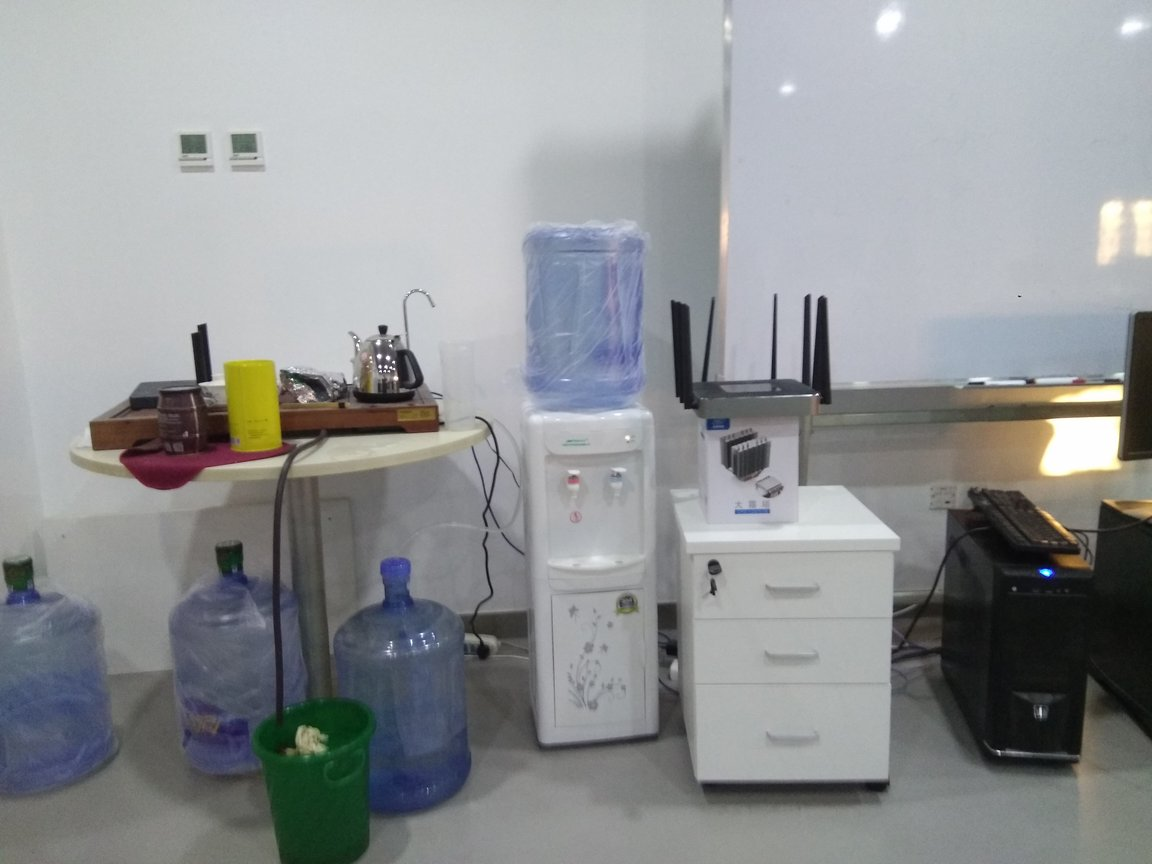computer: (943, 498, 1092, 774)
drawer chest: (664, 478, 898, 806)
scuttlebutt: (338, 556, 477, 822), (171, 540, 301, 791), (1, 555, 122, 812), (517, 224, 653, 419)
water dispenser: (514, 389, 667, 755)
